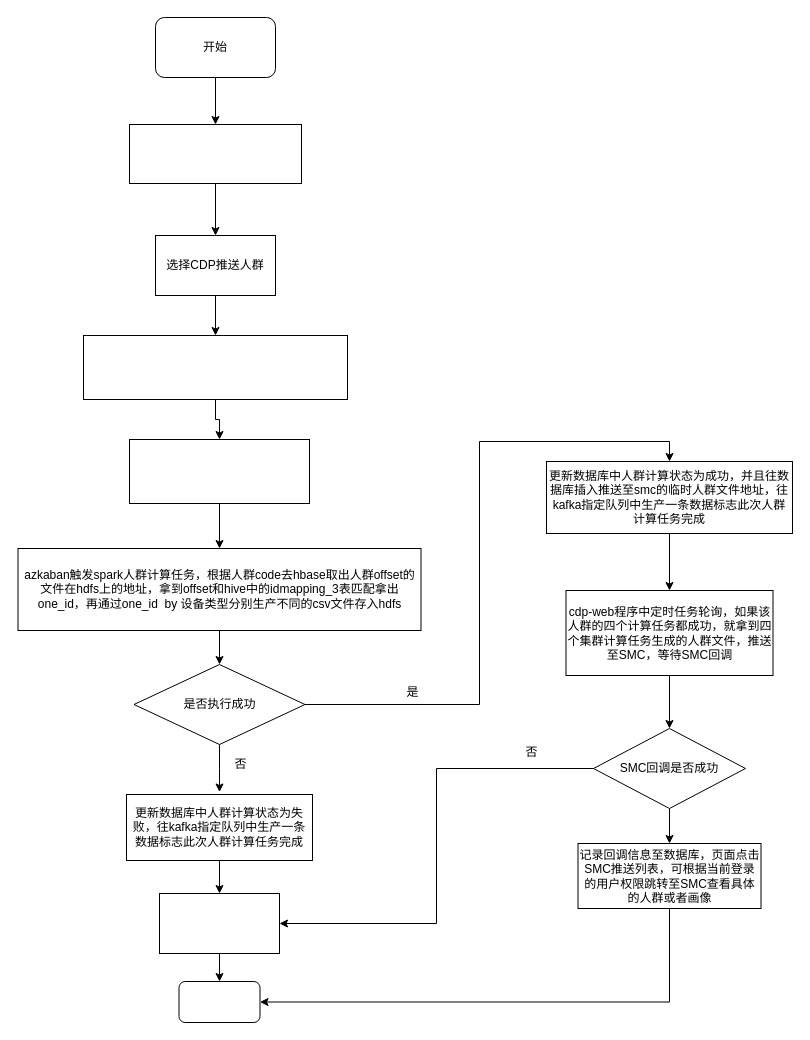
Some shapes in this 810 by 1040 pixel diagram are drawn without their labels. The shapes that lost their labels are listed below. From the top down, each one's centre as x and y in pixels, then its label:
At [215,154]: "切换特步媒介数据体系，根据当前登录用户的权限展示SMC人群画像推送入口".
At [215,367]: "cdp-web程序提交人群计算任务（主要参数为人群的code和设备类型）至job-scheduler程序，这里有四种设备类型，所以一次会触发提交四个人群计算任务".
At [219,471]: "job-scheduler程序解析参数，并且将人群计算任务提交至azkaban".
At [219,923]: "返回业务异常，标志推送失败".
At [219,1001]: "结束".
